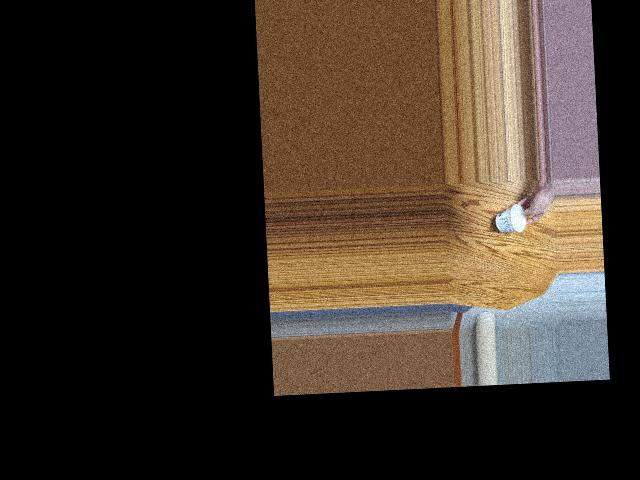cotage: (496, 202, 528, 235)
